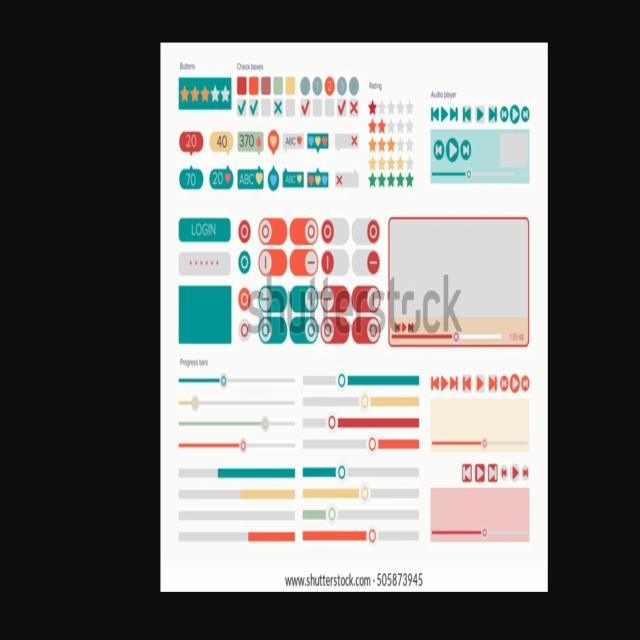checkbox: (300, 96, 310, 118), (248, 98, 258, 119), (337, 98, 346, 116)
radio: (237, 219, 251, 244), (238, 288, 252, 311), (238, 250, 250, 273)
toggle: (321, 248, 350, 277), (259, 249, 288, 277), (290, 219, 319, 247), (351, 219, 380, 247), (351, 249, 380, 277), (259, 218, 287, 247), (290, 250, 318, 278), (321, 219, 349, 247), (235, 98, 247, 116)
